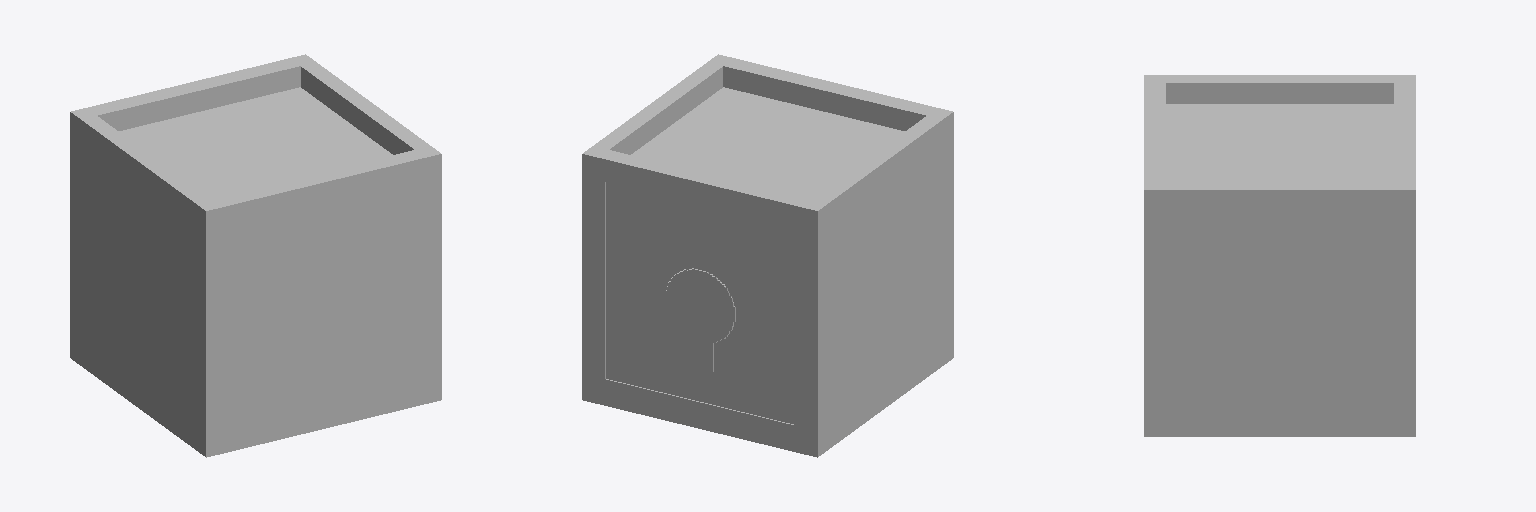
Rendered from AlmacenSetas.obj.
3 views of the same model, side by side, from view 1: azimuth 30°, elevation 25°; view 2: azimuth 150°, elevation 25°; view 3: azimuth 270°, elevation 25° (orthographic).
Parts seen in each view (by area): view 1: object 1; view 2: object 1; view 3: object 1.
Boxes of the visible parts, x1=… form: object 1: x1=70, y1=54, x2=441, y2=457; object 1: x1=582, y1=54, x2=953, y2=457; object 1: x1=1144, y1=75, x2=1415, y2=436.
Bounding box in the file's own units: 17.6 × 17.6 × 17.6.